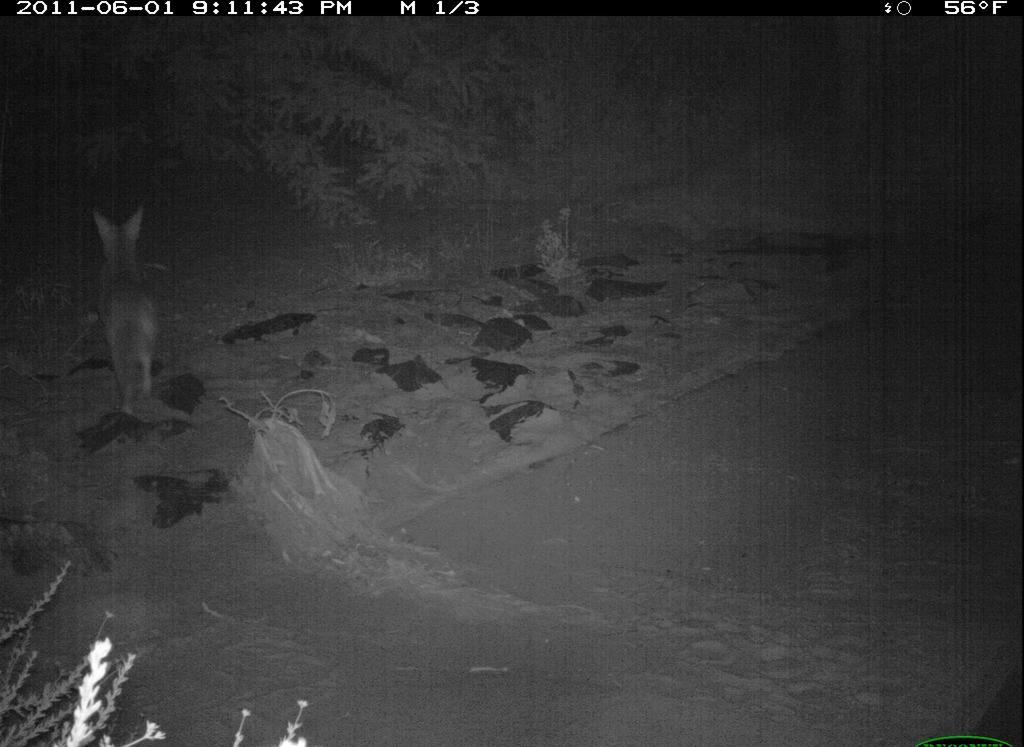coyote: (84, 201, 178, 424)
